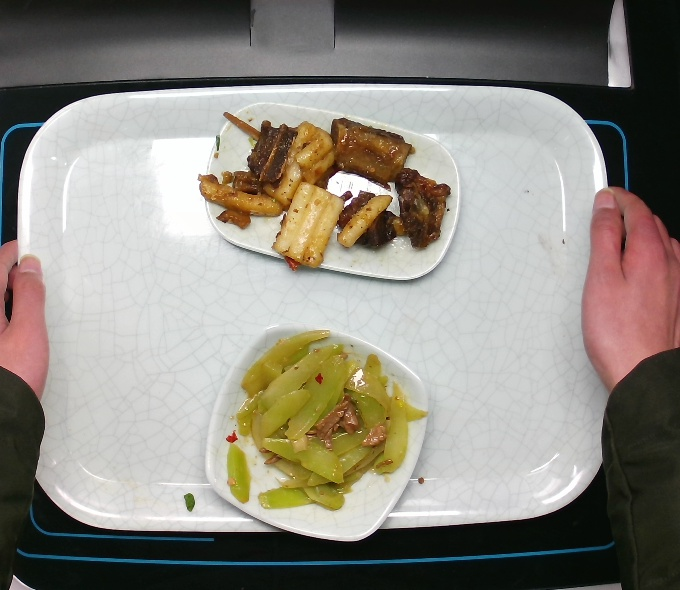wcq-NianGaoZaiPai: (193, 107, 453, 272)
wcq-WoSun: (223, 327, 418, 512)
